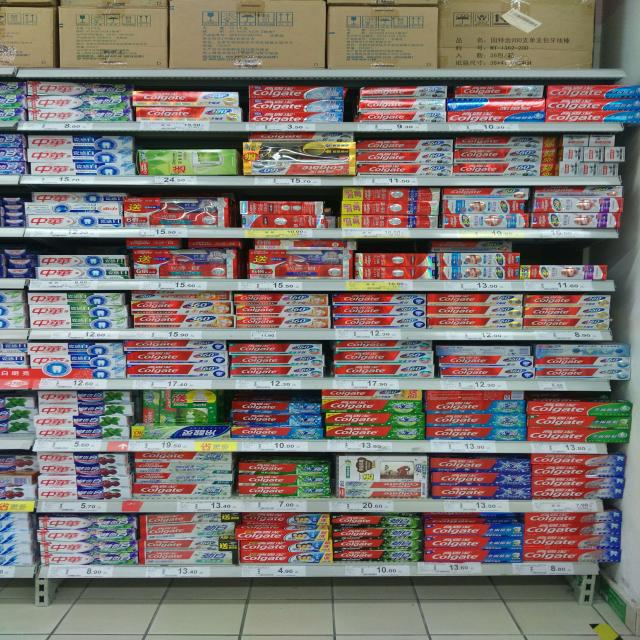unorganised: (424, 240, 516, 254), (187, 238, 244, 249)
